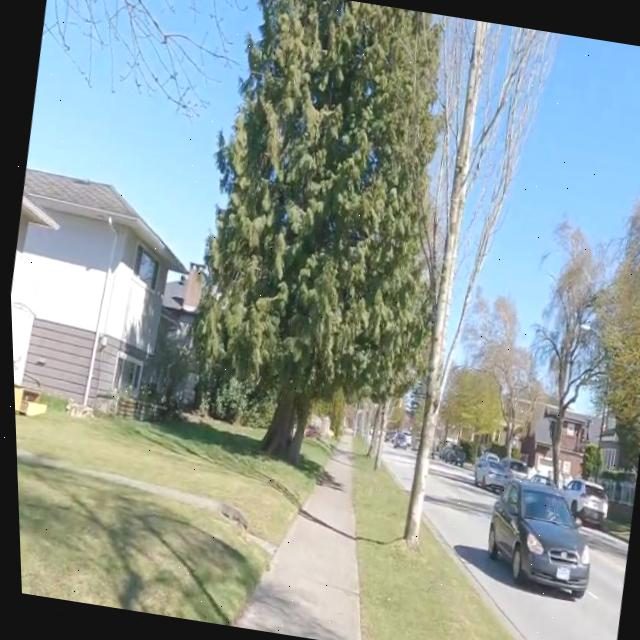Automobile: (484, 481, 585, 597), (559, 478, 604, 524), (470, 456, 509, 494), (441, 445, 461, 466), (391, 430, 406, 447)
Road: (420, 464, 624, 640), (378, 450, 410, 490)
Sidewalk: (228, 437, 355, 640)
